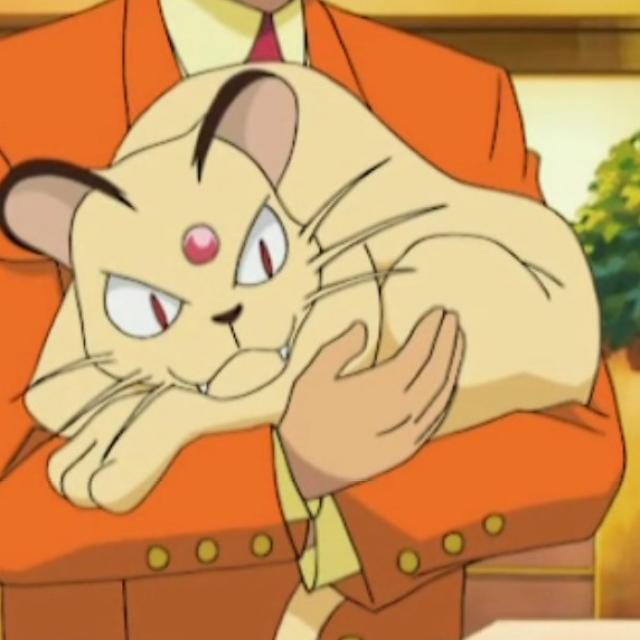Persian: (12, 84, 597, 466)
